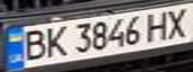3: (69, 20, 93, 54)
4: (106, 16, 130, 48)
6: (124, 12, 148, 46)
8: (90, 18, 112, 52)
B: (18, 27, 51, 62)
H: (142, 9, 172, 43)
K: (39, 24, 69, 58)
X: (160, 6, 193, 39)
